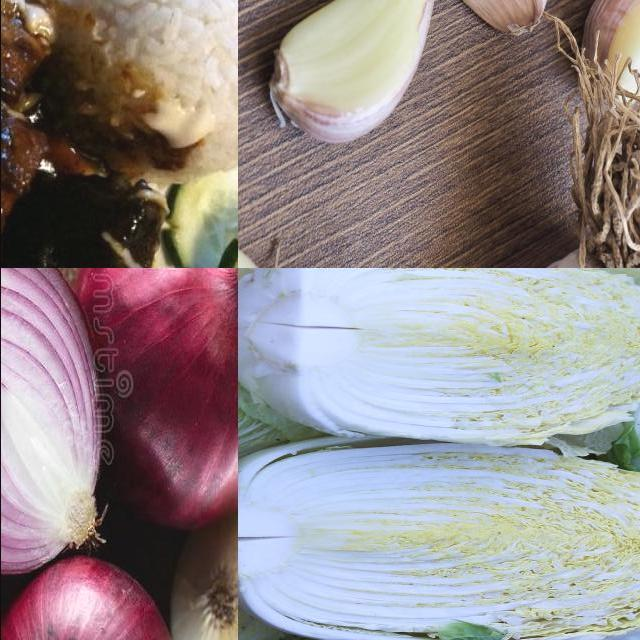cabbage: (238, 442, 640, 640), (238, 269, 640, 443)
cucumber: (169, 156, 238, 269)
garlic: (265, 1, 431, 151), (580, 1, 640, 115), (399, 1, 560, 37)
onion: (68, 269, 238, 528), (1, 269, 110, 581), (1, 559, 168, 640), (174, 468, 238, 640)
